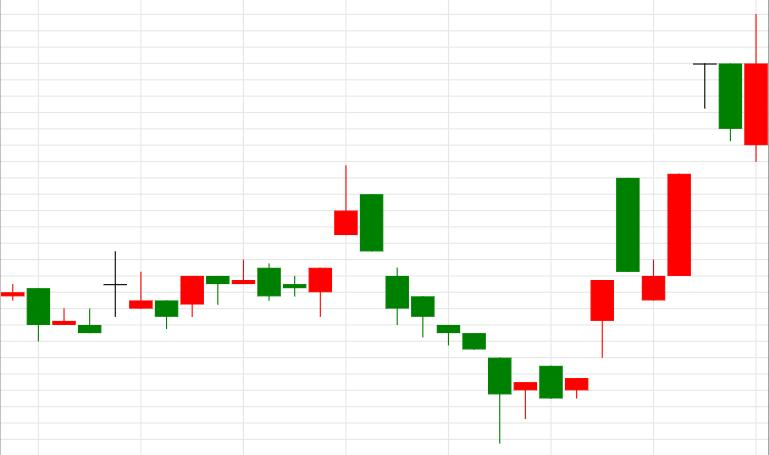hammer_rise: (359, 194, 512, 443)
